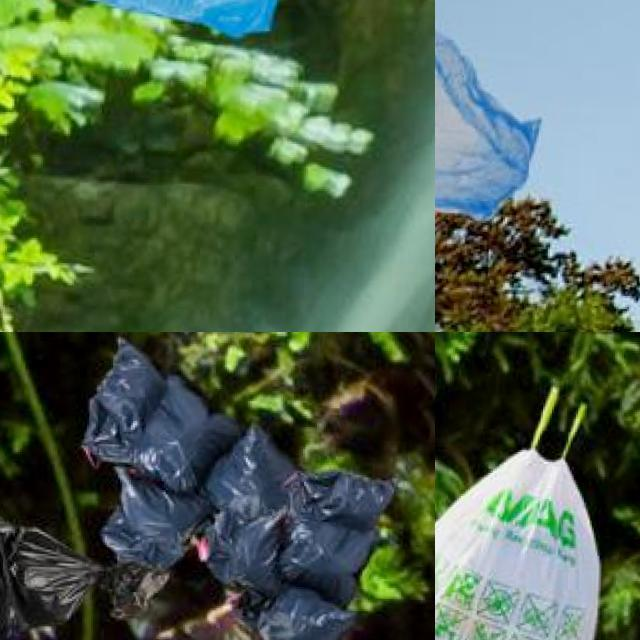waste: (435, 437, 631, 640), (78, 340, 240, 490), (435, 0, 539, 219), (0, 508, 169, 640), (272, 520, 374, 602), (193, 510, 287, 586), (287, 471, 399, 522), (247, 594, 355, 640)
